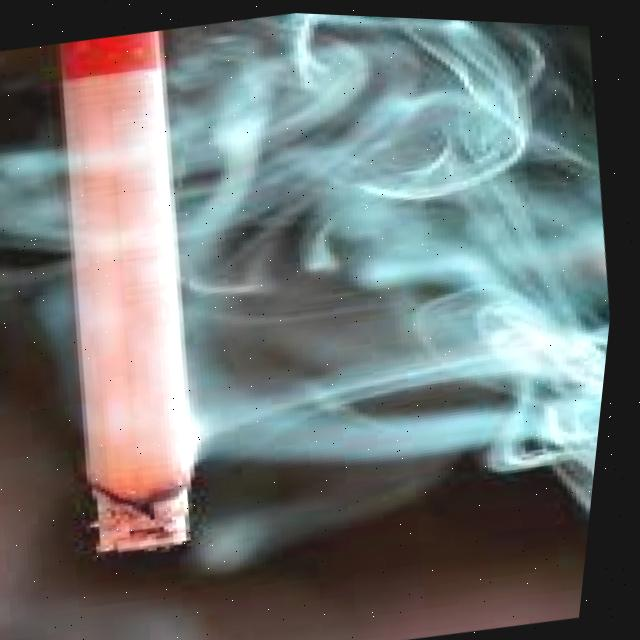cigarette: (50, 30, 193, 555)
